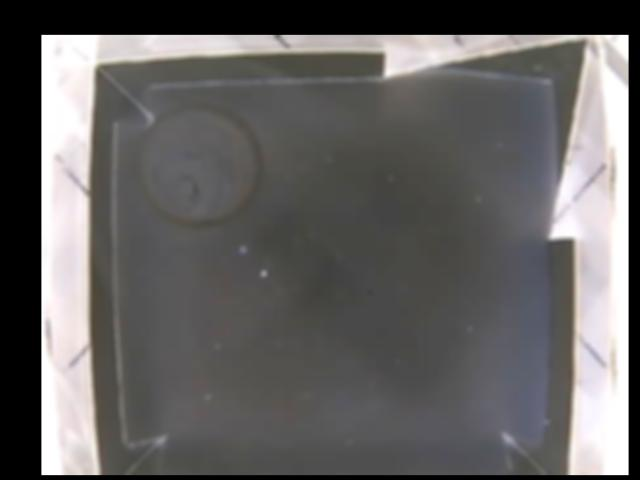Bottle: (139, 107, 267, 235)
